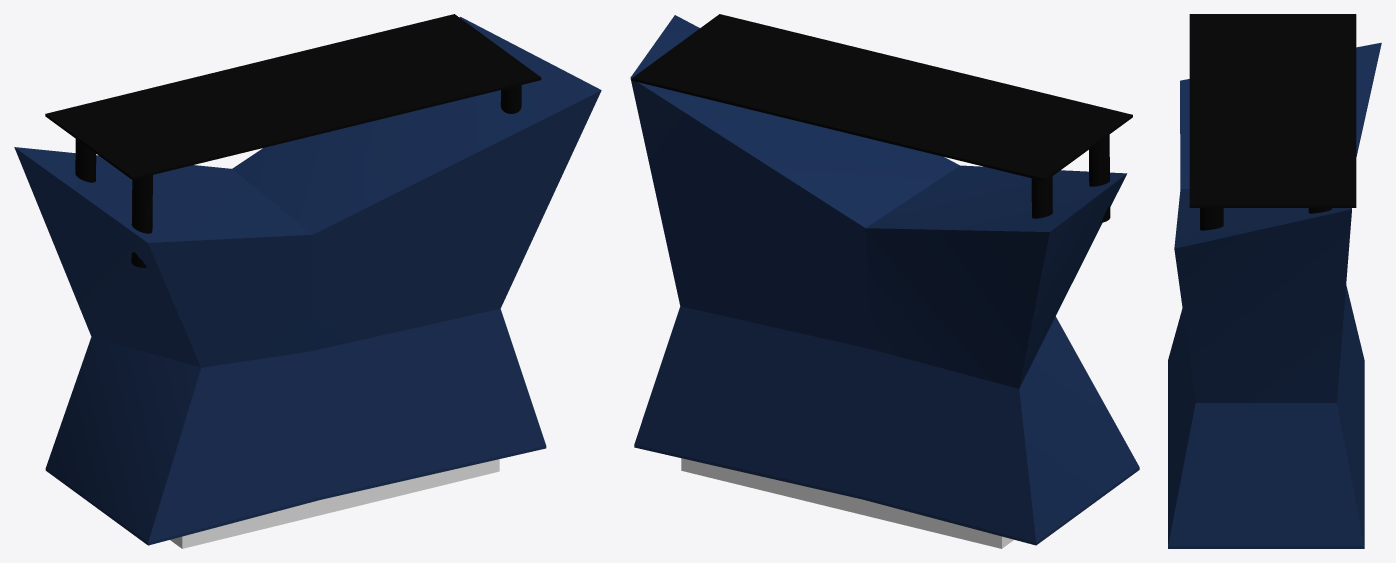
Rendered from MostradorS5.obj.
The picture shows the model from 3 angles, left to right: view 1: azimuth 30°, elevation 25°; view 2: azimuth 150°, elevation 25°; view 3: azimuth 270°, elevation 25°; orthographic projection. The views are drawn at different scales.
Visible parts, largest first — view 1: MostradorS5; view 2: MostradorS5; view 3: MostradorS5.
Part boxes in pixels (x1,y1,x2,y2): MostradorS5: (14, 14, 601, 548); MostradorS5: (630, 14, 1139, 548); MostradorS5: (1168, 14, 1381, 548).
Bounding box in the file's own units: 7.34 × 5.54 × 2.95.
3 materials, 3 textured.
